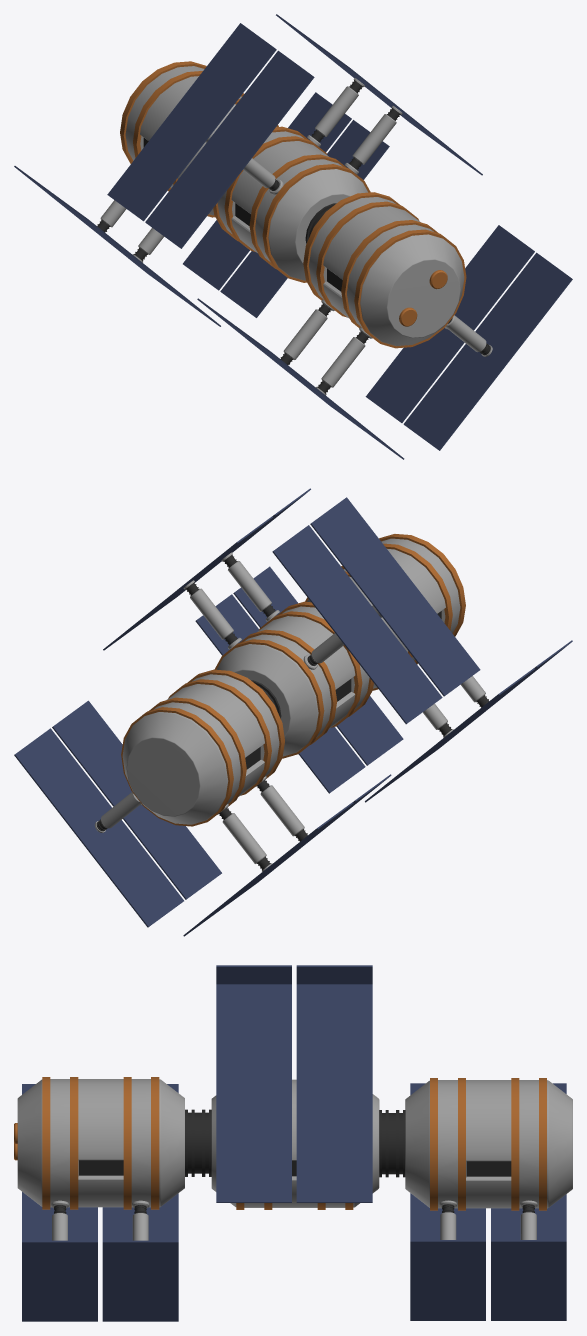
File: Satellite_FBX.fbx
3 views of the same model, one above another, from view 1: azimuth 30°, elevation 25°; view 2: azimuth 150°, elevation 25°; view 3: azimuth 270°, elevation 25° (orthographic). The views are drawn at different scales.
Parts seen in each view (by area): view 1: Solar_Panel_Group4_Solar_Panel_Group2_Solar_Panel_Group1_pol; view 2: Solar_Panel_Group4_Solar_Panel_Group2_Solar_Panel_Group1_pol; view 3: Solar_Panel_Group4_Solar_Panel_Group2_Solar_Panel_Group1_pol.
Part boxes in pixels (box(x1,y1,x2,y2)): Solar_Panel_Group4_Solar_Panel_Group2_Solar_Panel_Group1_pol: box(14, 14, 572, 459); Solar_Panel_Group4_Solar_Panel_Group2_Solar_Panel_Group1_pol: box(14, 488, 572, 936); Solar_Panel_Group4_Solar_Panel_Group2_Solar_Panel_Group1_pol: box(14, 965, 572, 1321).
Size of the model in its own units: 5.82 by 5.77 by 8.65.
